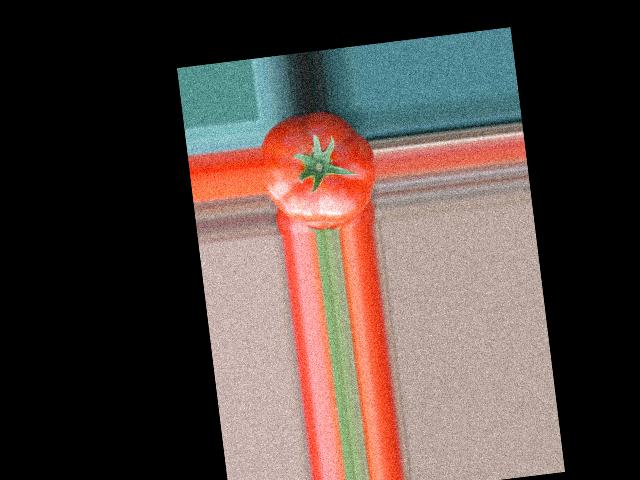tomato: (257, 106, 382, 230)
